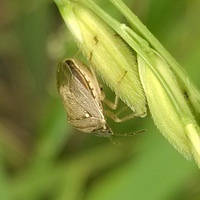insect: (57, 58, 145, 135)
